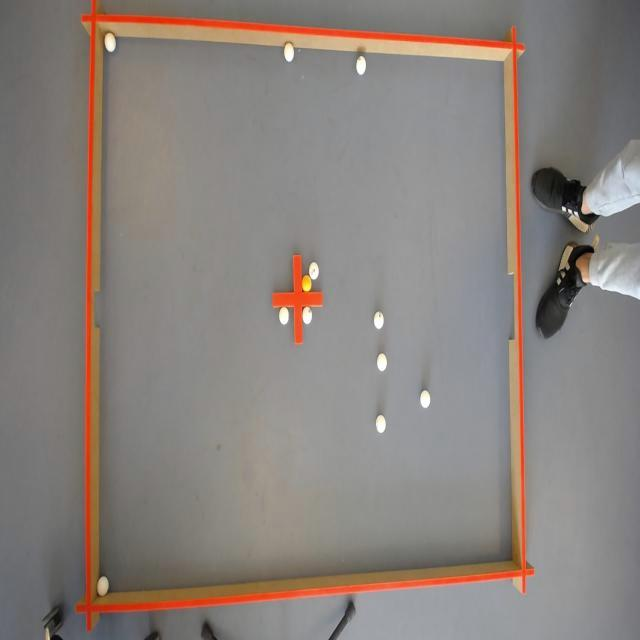orange-golf-balls: (302, 274, 312, 291)
white-golf-balls: (103, 30, 115, 51), (96, 577, 108, 596), (284, 40, 294, 60), (356, 53, 366, 73), (377, 353, 388, 371), (421, 389, 431, 408), (309, 261, 319, 279), (376, 415, 386, 433), (302, 306, 312, 324), (279, 306, 289, 324), (374, 311, 384, 328)
